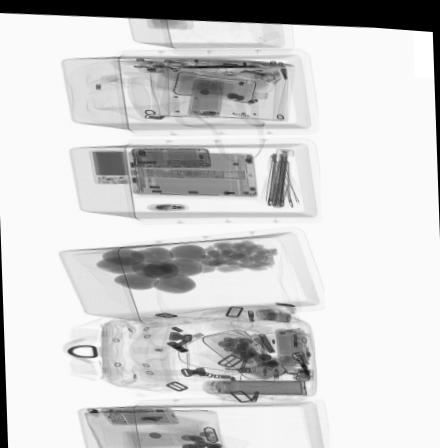Powerbank: (87, 147, 131, 182)
